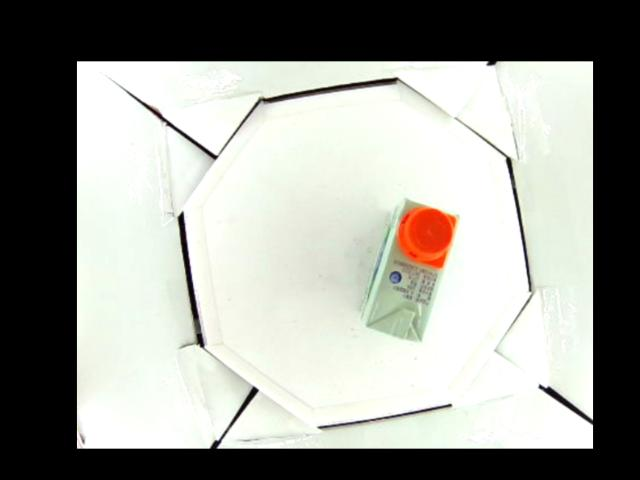Bottle: (360, 192, 458, 342)
